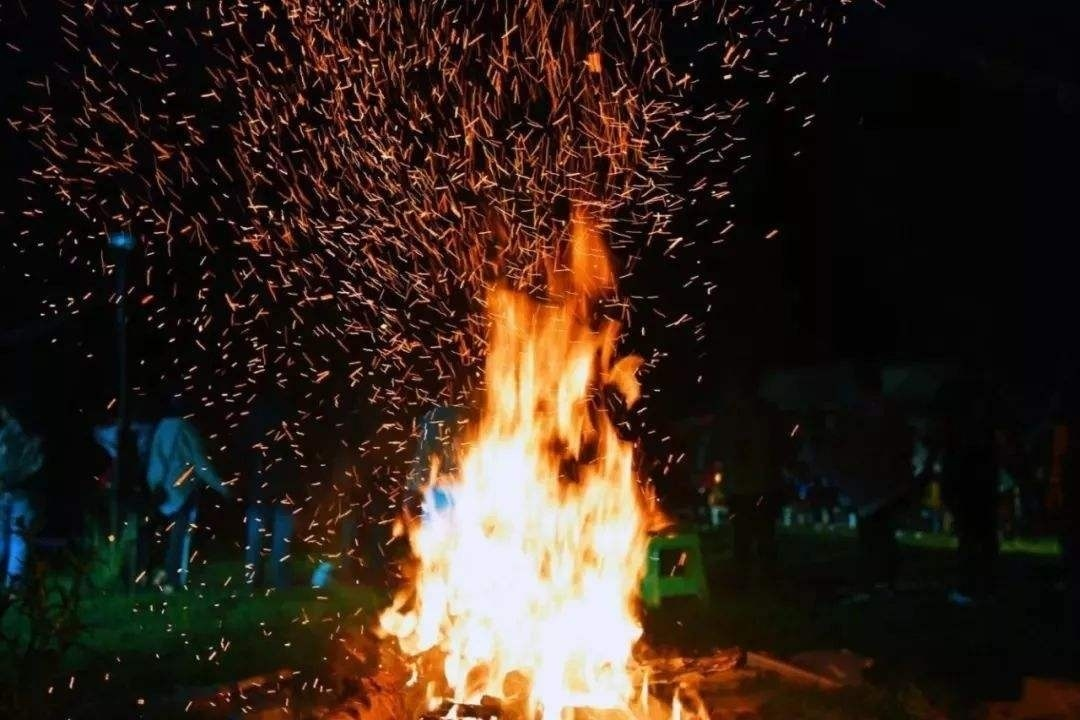fire: (379, 247, 676, 720)
